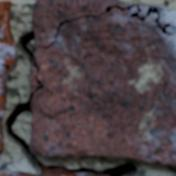brick: (30, 9, 175, 165), (34, 0, 117, 45), (0, 2, 17, 153), (30, 68, 36, 91), (140, 6, 147, 16), (119, 2, 128, 6)
broken_brick: (0, 170, 38, 175), (45, 174, 62, 175)
crack: (2, 0, 173, 175)
